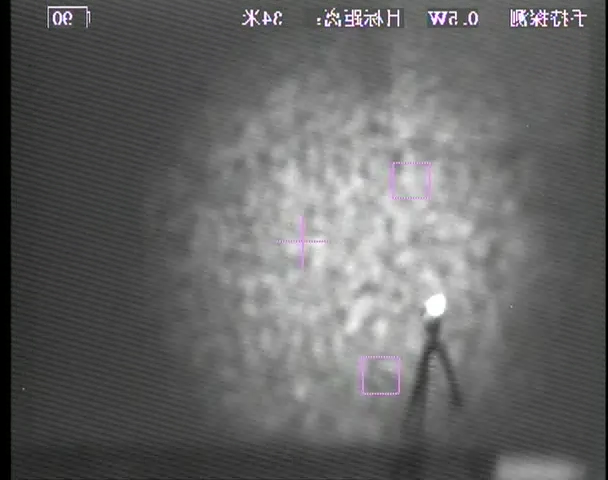my: (423, 291, 449, 318)
